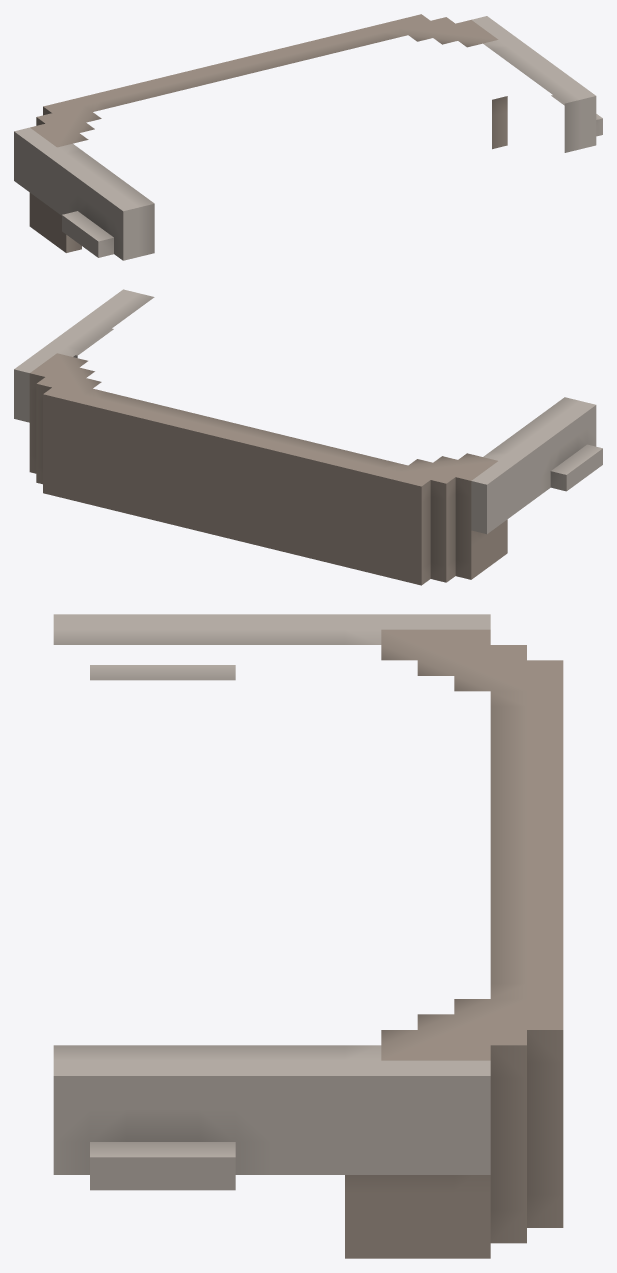
Rendered from hair_f_cropped.glb.
3 views of the same model, one above another, from view 1: azimuth 30°, elevation 25°; view 2: azimuth 150°, elevation 25°; view 3: azimuth 270°, elevation 25° (orthographic). The views are drawn at different scales.
Parts seen in each view (by area): view 1: VoxelVisual; view 2: VoxelVisual; view 3: VoxelVisual.
Part boxes in pixels (x1=…): VoxelVisual: x1=14, y1=14, x2=602, y2=260; VoxelVisual: x1=14, y1=289, x2=602, y2=585; VoxelVisual: x1=53, y1=614, x2=563, y2=1258.
Size of what is drawn, in the model's own units: 2 by 0.375 by 0.875.
